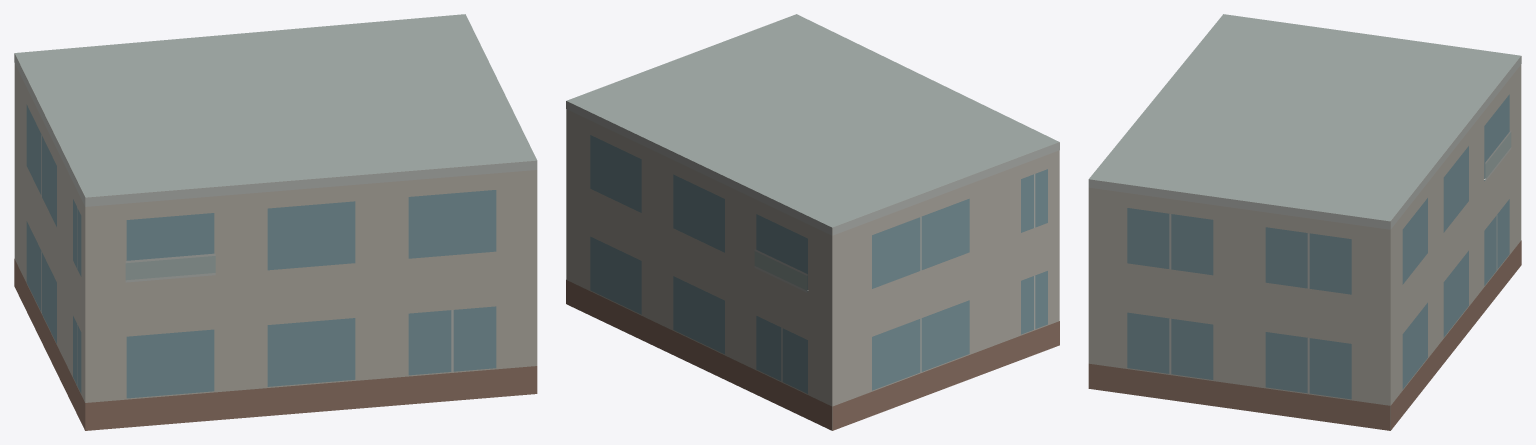
File: survey-upis-32535673.glb
The picture shows the model from 3 angles, left to right: view 1: azimuth 30°, elevation 25°; view 2: azimuth 150°, elevation 25°; view 3: azimuth 270°, elevation 25°; orthographic projection. The views are drawn at different scales.
Parts seen in each view (by area): view 1: survey-upis-32535673.tmp; view 2: survey-upis-32535673.tmp; view 3: survey-upis-32535673.tmp.
Part boxes in pixels (<box>): survey-upis-32535673.tmp: <box>14,14,537,430</box>; survey-upis-32535673.tmp: <box>566,14,1059,430</box>; survey-upis-32535673.tmp: <box>1088,14,1521,430</box>.
Bounding box in the file's own units: 12.97 × 6.1 × 11.43.
